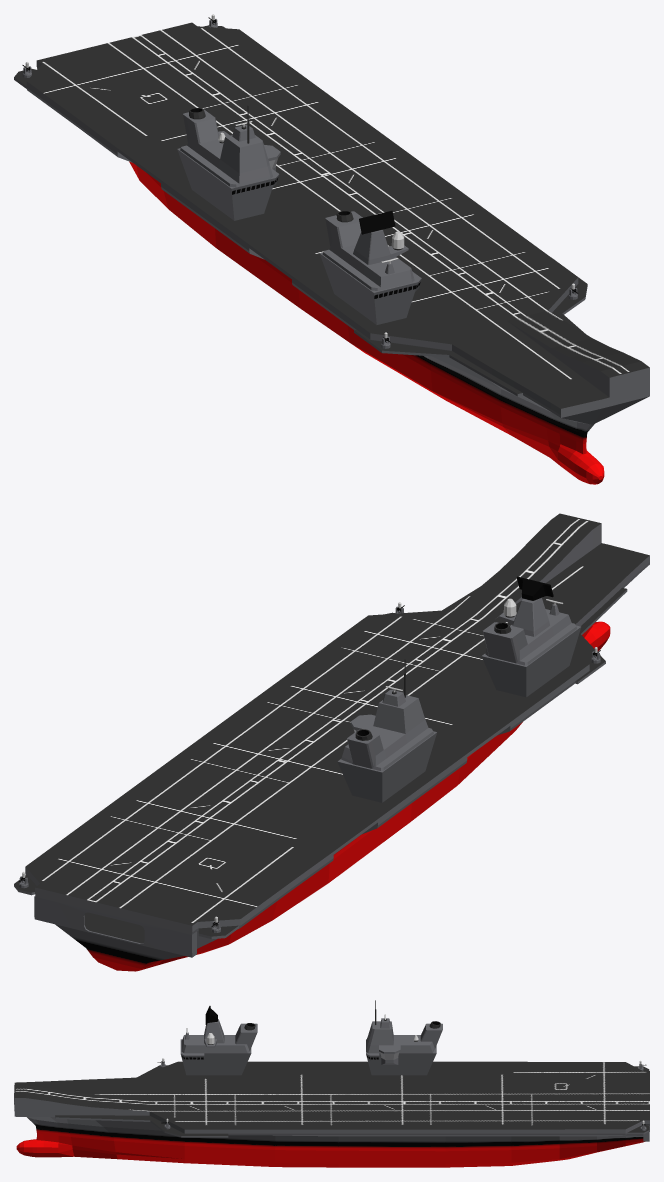
The picture shows the model from 3 angles, top to bottom: view 1: azimuth 30°, elevation 25°; view 2: azimuth 150°, elevation 25°; view 3: azimuth 270°, elevation 25°; orthographic projection. The views are drawn at different scales.
Parts seen in each view (by area): view 1: Cube.003, Cube.011, Cube.016; view 2: Cube.003, Cube.016, Cube.011; view 3: Cube.003, Cube.011, Cube.016.
Boxes of the visible parts, x1=… form: Cube.003: x1=14, y1=22, x2=649, y2=484; Cube.011: x1=249, y1=230, x2=325, y2=278; Cube.016: x1=117, y1=132, x2=186, y2=182; Cube.003: x1=14, y1=513, x2=649, y2=971; Cube.016: x1=278, y1=804, x2=377, y2=854; Cube.011: x1=431, y1=706, x2=510, y2=756; Cube.003: x1=14, y1=1000, x2=649, y2=1167; Cube.011: x1=274, y1=1061, x2=338, y2=1078; Cube.016: x1=445, y1=1061, x2=512, y2=1077.
Bounding box in the file's own units: 6018 × 5239 × 22889.
